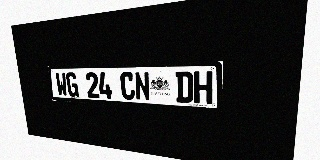2: (85, 72, 99, 98)
4: (98, 72, 112, 99)
C: (120, 72, 135, 100)
D: (175, 71, 193, 103)
G: (66, 72, 79, 97)
H: (194, 71, 213, 104)
N: (134, 72, 150, 101)
W: (55, 72, 68, 97)
